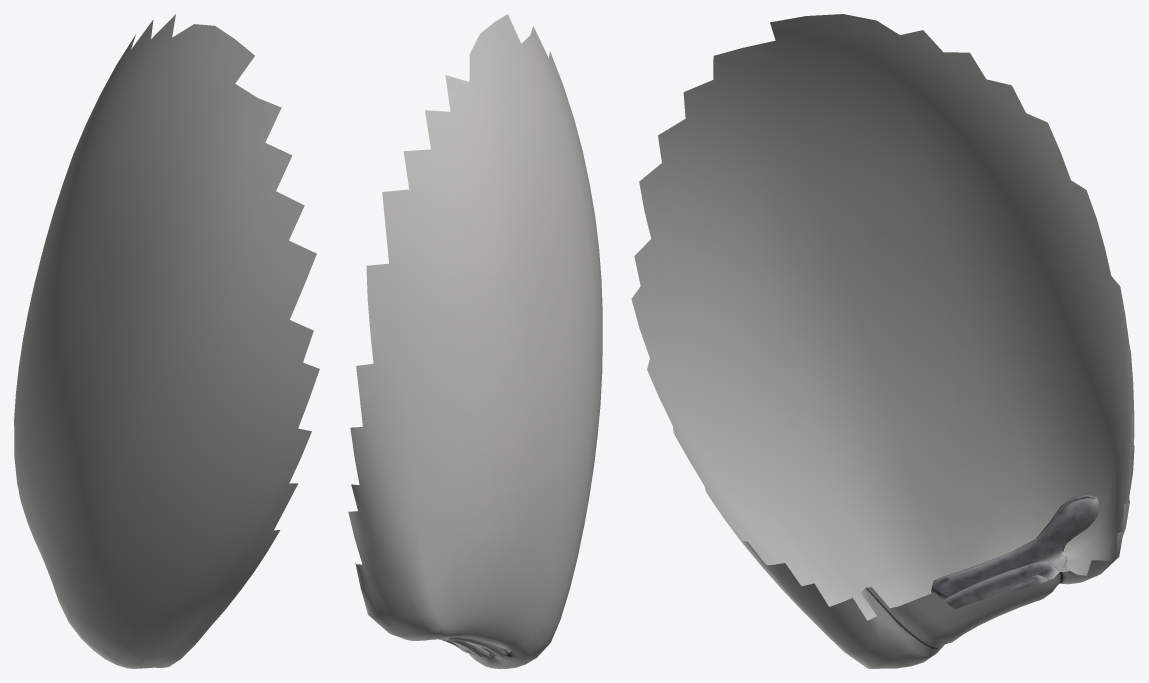
The model's file is chr_player_capsule01_bunny01_ear_l_top3d_v001.glb.
The picture shows the model from 3 angles, left to right: view 1: azimuth 30°, elevation 25°; view 2: azimuth 150°, elevation 25°; view 3: azimuth 270°, elevation 25°; orthographic projection. The views are drawn at different scales.
Parts seen in each view (by area): view 1: BunnyEarL; view 2: BunnyEarL; view 3: BunnyEarL.
Boxes of the visible parts, x1=… form: BunnyEarL: x1=14, y1=14, x2=319, y2=668; BunnyEarL: x1=348, y1=14, x2=602, y2=668; BunnyEarL: x1=631, y1=14, x2=1134, y2=668.
Bounding box in the file's own units: 0.1148 × 0.5392 × 0.3637.
1 material, 1 textured.
